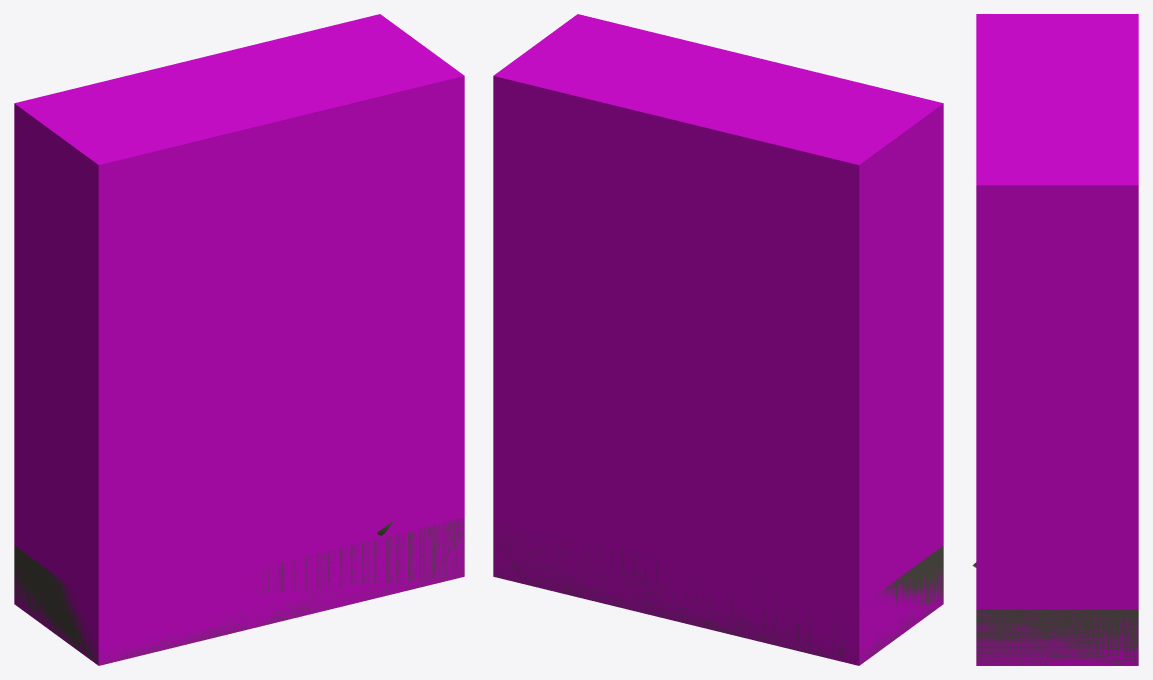
File: PRP_Inscription_Slab_B.glb
3 views of the same model, side by side, from view 1: azimuth 30°, elevation 25°; view 2: azimuth 150°, elevation 25°; view 3: azimuth 270°, elevation 25° (orthographic). The views are drawn at different scales.
Visible parts, largest first — view 1: COL_Slab, PRP_Inscription_Slab_B_Mesh; view 2: COL_Slab, PRP_Inscription_Slab_B_Mesh; view 3: COL_Slab, PRP_Inscription_Slab_B_Mesh.
Boxes of the visible parts, x1,y1,x2,y2 form: COL_Slab: [14, 14, 464, 665]; PRP_Inscription_Slab_B_Mesh: [14, 518, 464, 665]; COL_Slab: [493, 14, 943, 665]; PRP_Inscription_Slab_B_Mesh: [493, 522, 943, 664]; COL_Slab: [976, 14, 1138, 665]; PRP_Inscription_Slab_B_Mesh: [972, 562, 1138, 665].
Size of the model in its own units: 1.3 by 1.7 by 0.5327.
